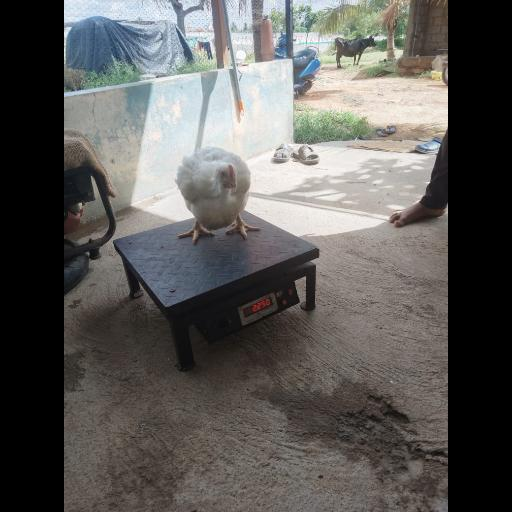chick: (173, 146, 259, 242)
